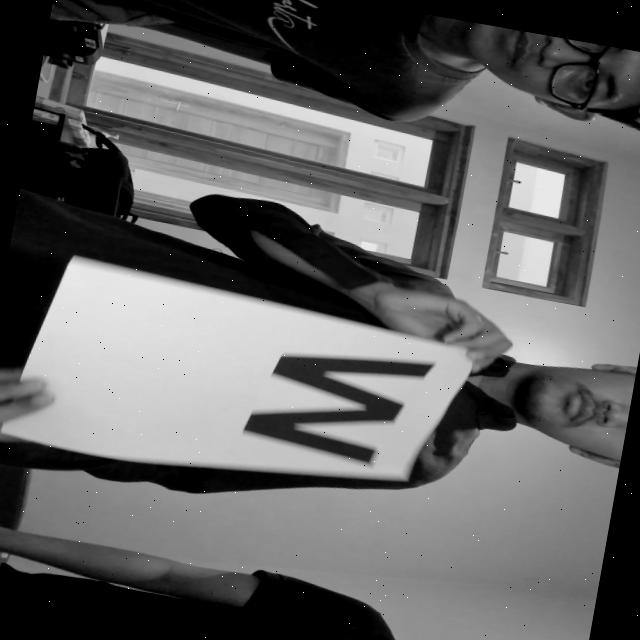w: (226, 322, 442, 484)
